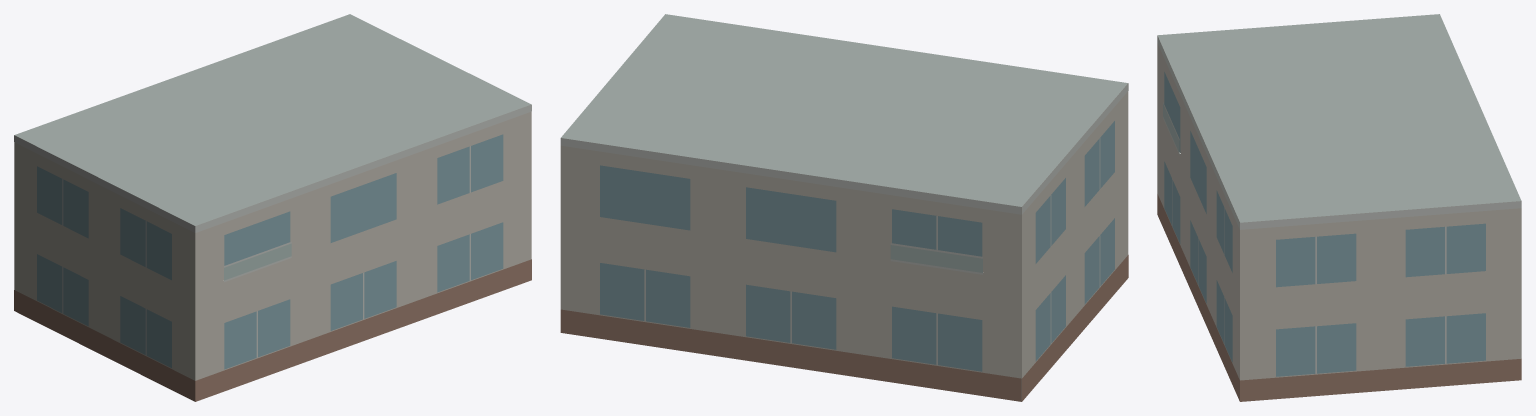
File: survey-upis-32627489.glb
3 views of the same model, side by side, from view 1: azimuth 30°, elevation 25°; view 2: azimuth 150°, elevation 25°; view 3: azimuth 270°, elevation 25° (orthographic). The views are drawn at different scales.
Visible parts, largest first — view 1: survey-upis-32627489.tmp; view 2: survey-upis-32627489.tmp; view 3: survey-upis-32627489.tmp.
Part boxes in pixels (x1=…): survey-upis-32627489.tmp: x1=14, y1=14, x2=531, y2=401; survey-upis-32627489.tmp: x1=560, y1=14, x2=1128, y2=401; survey-upis-32627489.tmp: x1=1157, y1=14, x2=1521, y2=401.
Bounding box in the file's own units: 15.25 × 6.1 × 11.25.
